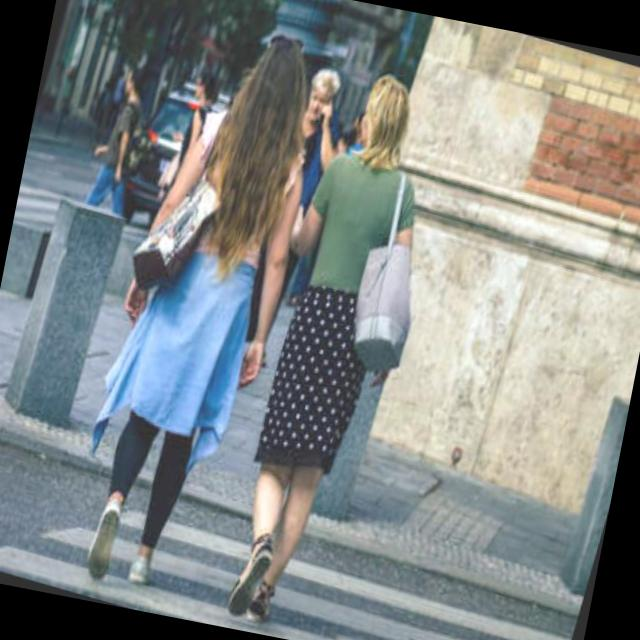person: (39, 0, 350, 627), (183, 42, 486, 640), (70, 50, 176, 228)
